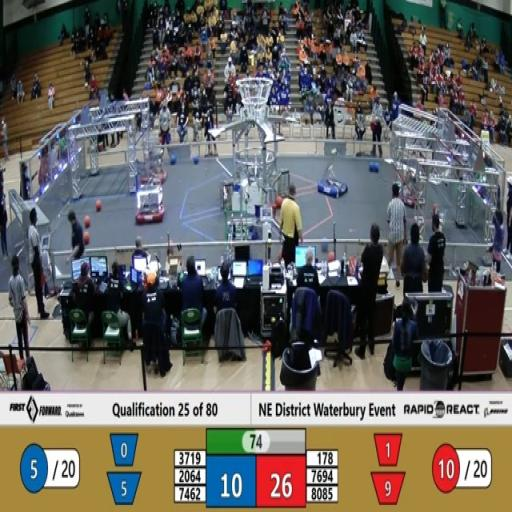robot: (214, 203, 254, 267), (388, 146, 426, 211), (314, 152, 352, 205), (137, 137, 170, 187), (133, 186, 168, 228)
